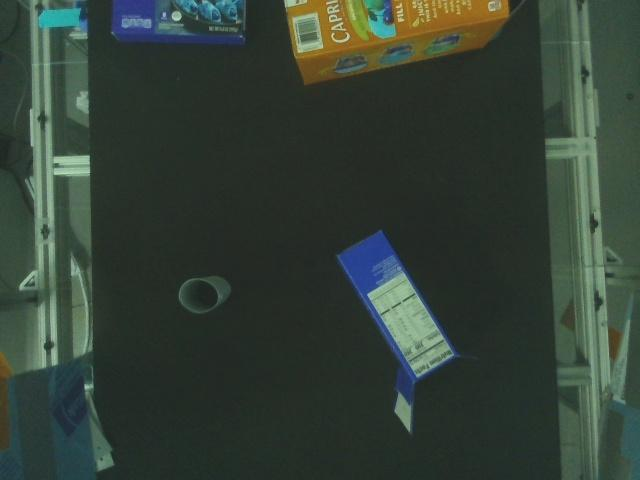cardboard: (329, 225, 484, 439), (281, 0, 532, 91), (107, 0, 250, 49), (175, 272, 235, 317)
